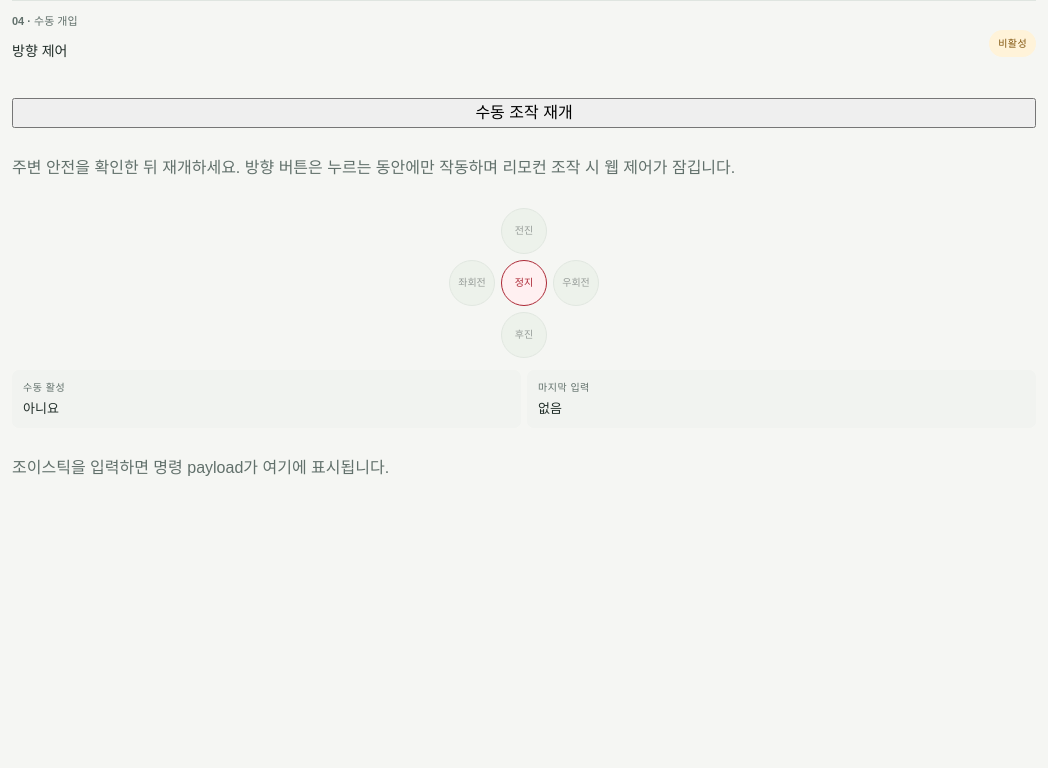
Scenario: ManualJoystick 입력 수명 › 장비가 리모컨 개입으로 거부하면 재개 전까지 반복하지 않는다
The width and height of the screenshot is (1048, 768).
Click the button "수동 조작 재개": (524, 113) [12, 98, 1036, 128]
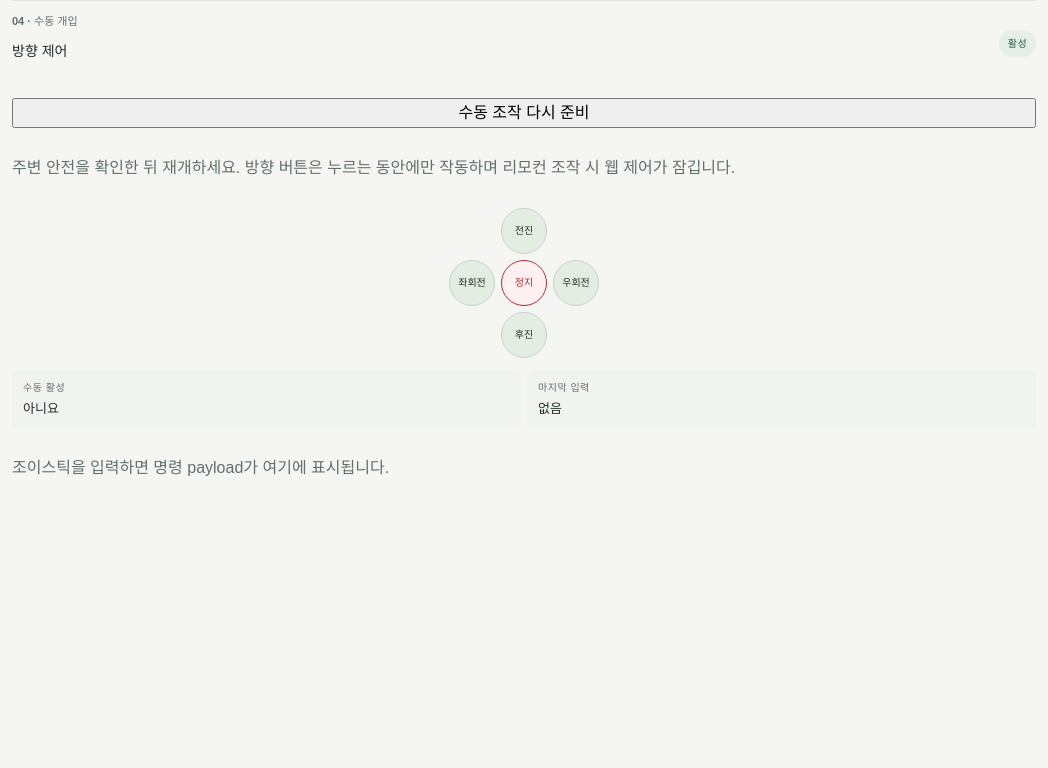
Press the mouse on the button with aria-label "수동 전진": (524, 231) [501, 208, 547, 254]
Wait 500 ms
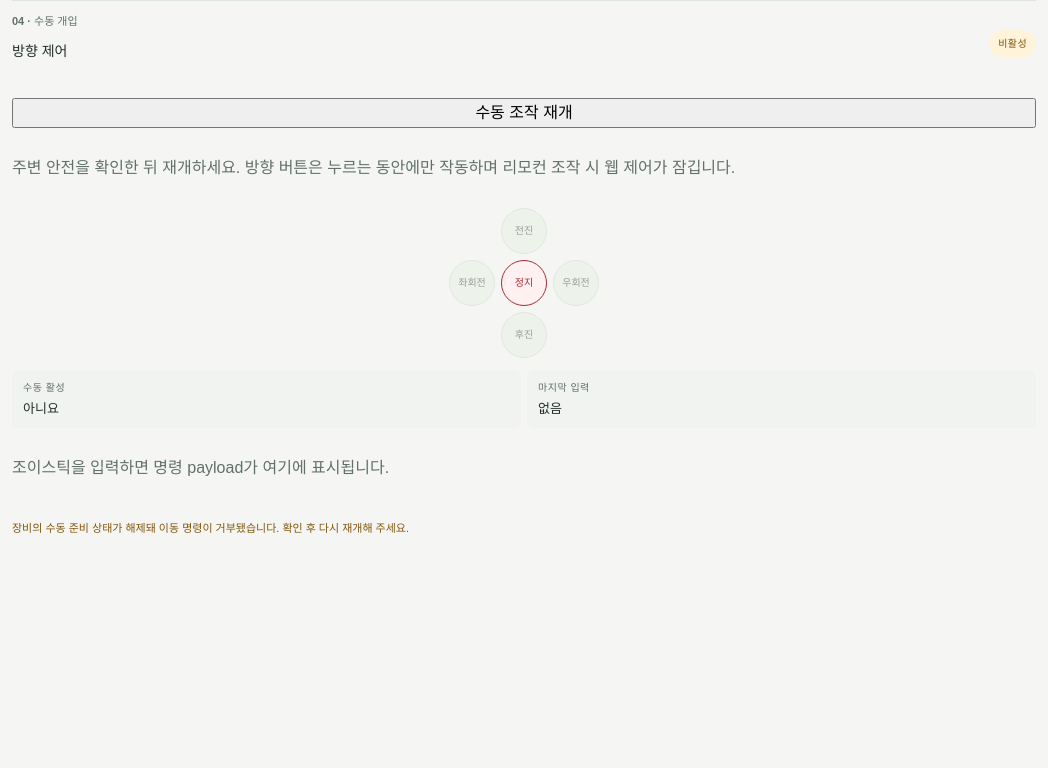
Expected: the button "수동 조작 재개" is enabled, [12, 98, 1036, 128]
Result: the button with aria-label "수동 전진" is disabled at [501, 208, 547, 254]
Result: the text "장비의 수동 준비 상태가 해제돼 이동 명령이 거부됐습니다. 확인 후 다시 재개해 주세요." is shown at [12, 522, 409, 534]
